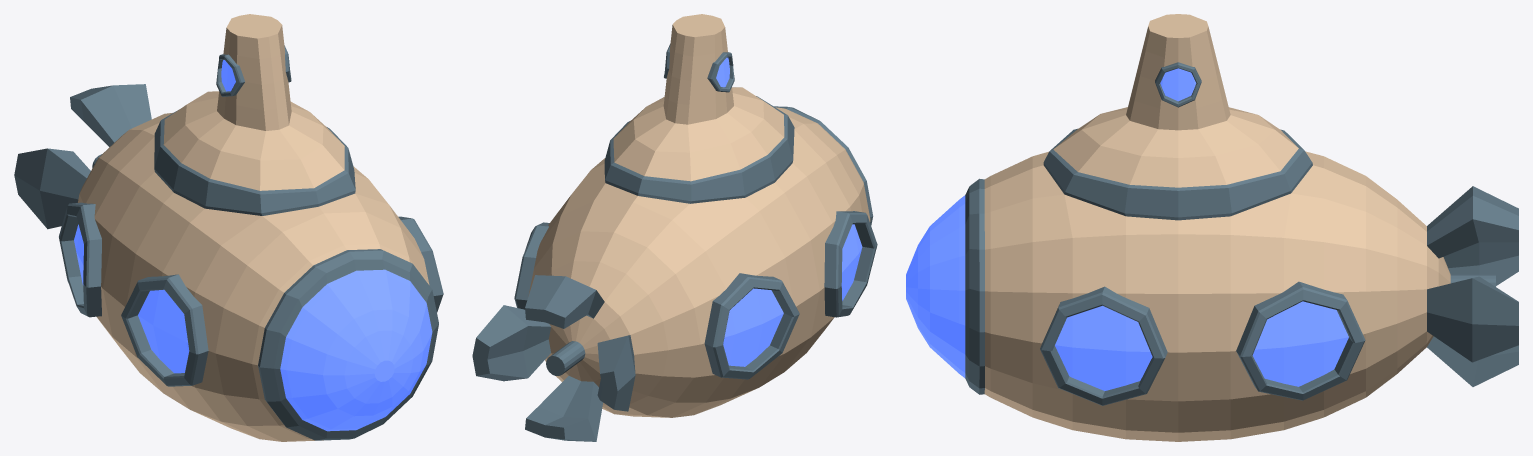
File: Submarine.fbx
3 views of the same model, side by side, from view 1: azimuth 30°, elevation 25°; view 2: azimuth 150°, elevation 25°; view 3: azimuth 270°, elevation 25° (orthographic). The views are drawn at different scales.
Visible parts, largest first — view 1: Submarine; view 2: Submarine; view 3: Submarine.
Part boxes in pixels (box(x1,y1,x2,y2)): Submarine: box(14, 14, 443, 441); Submarine: box(472, 14, 877, 441); Submarine: box(906, 14, 1518, 441).
Bounding box in the file's own units: 259 × 338 × 468.
